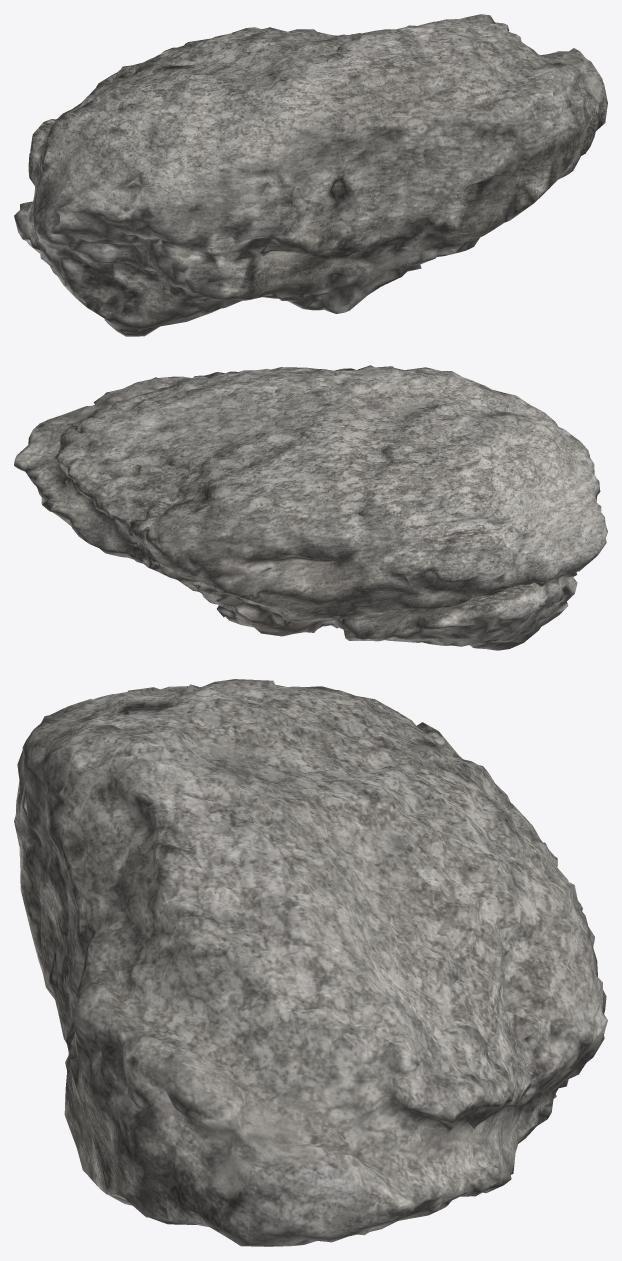
The model's file is namaqualand_boulder_05.gltf.
3 views of the same model, one above another, from view 1: azimuth 30°, elevation 25°; view 2: azimuth 150°, elevation 25°; view 3: azimuth 270°, elevation 25° (orthographic). The views are drawn at different scales.
Visible parts, largest first — view 1: namaqualand_boulder_05; view 2: namaqualand_boulder_05; view 3: namaqualand_boulder_05.
Boxes of the visible parts, x1=… form: namaqualand_boulder_05: x1=14, y1=14, x2=607, y2=336; namaqualand_boulder_05: x1=14, y1=365, x2=607, y2=650; namaqualand_boulder_05: x1=14, y1=679, x2=607, y2=1246.
Size of the model in its own units: 1.36 by 0.5359 by 0.748.
Materials: 1 (1 with a texture image).
